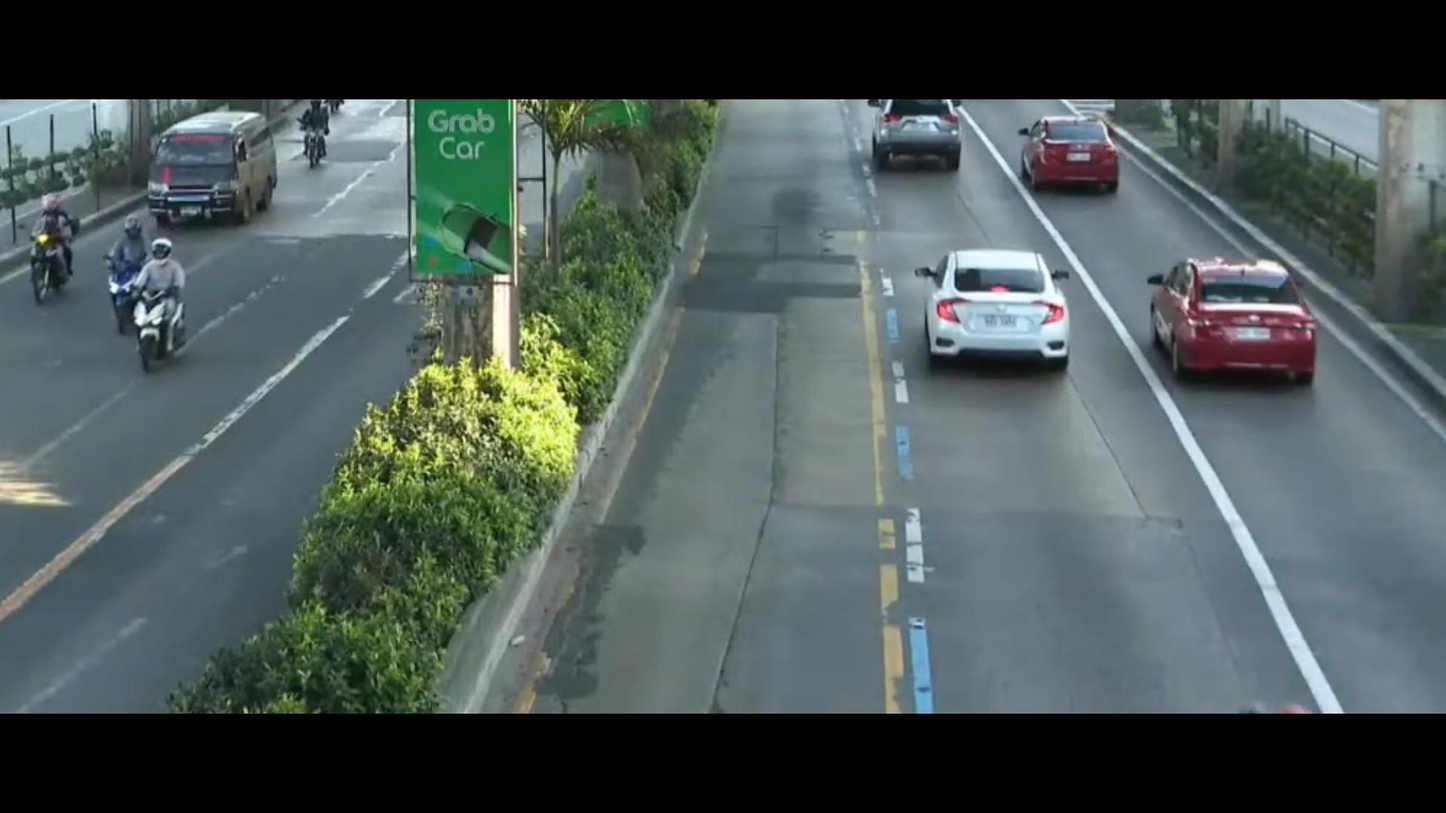Motorcycle: (114, 232, 213, 382), (10, 175, 89, 308), (104, 209, 170, 301), (294, 102, 345, 168)
SUV: (872, 104, 973, 170)
Sedan: (908, 209, 1083, 409), (1134, 243, 1348, 396), (1007, 104, 1143, 192)
Van: (144, 102, 273, 236)
